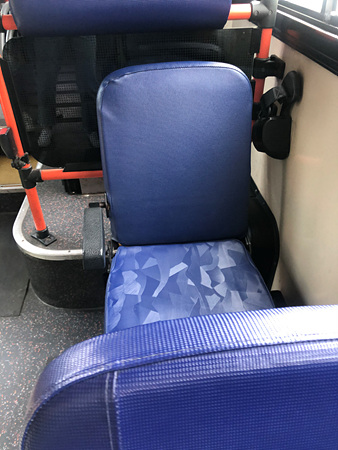seat: (97, 62, 273, 319)
